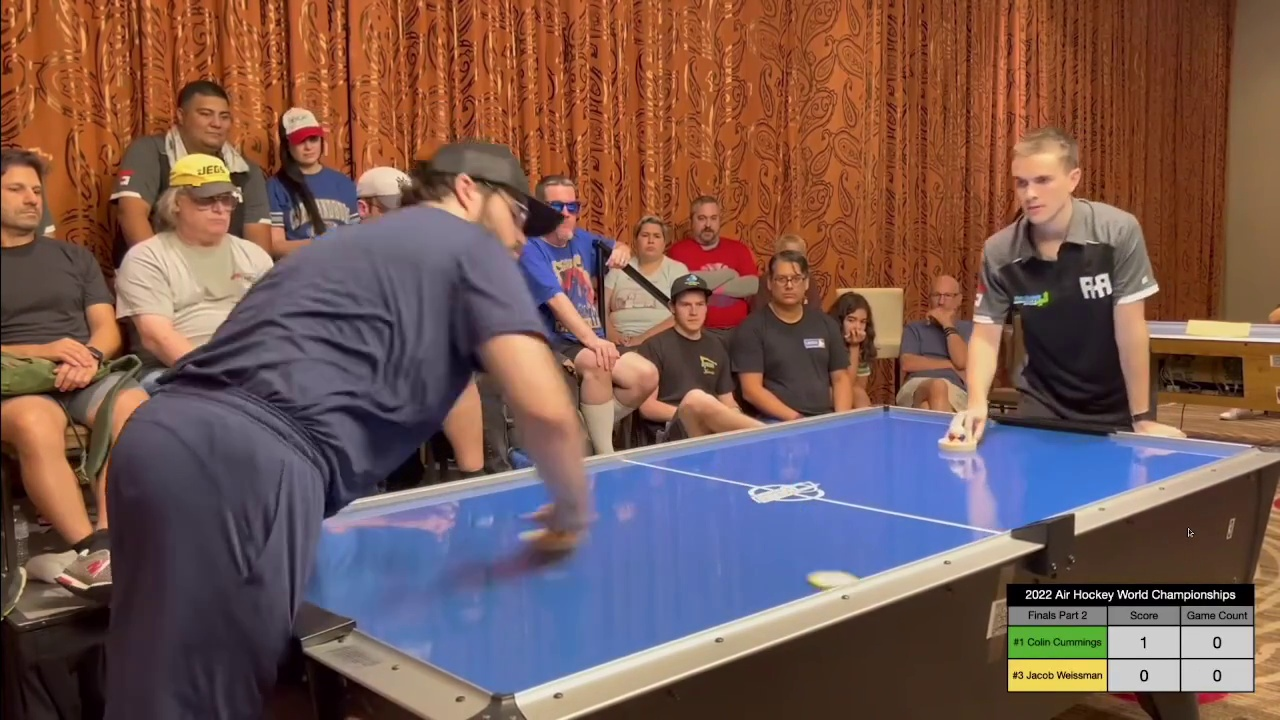player: (520, 508, 589, 552), (940, 423, 981, 452)
puck: (808, 565, 857, 590)
table: (190, 405, 1280, 699)
